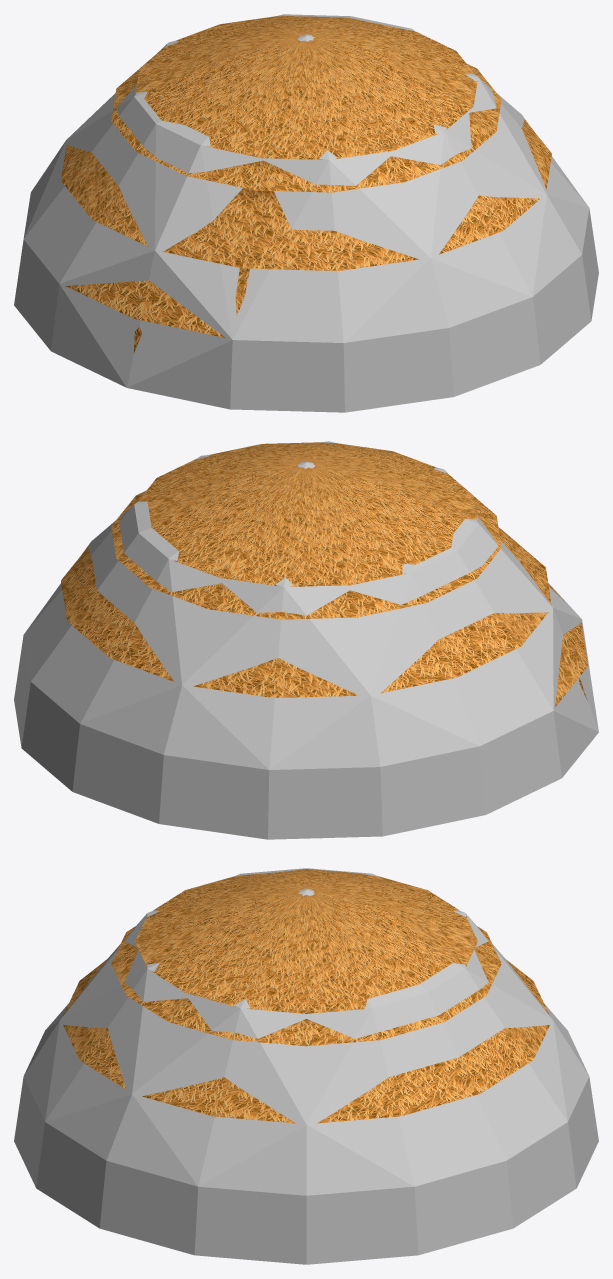
File: SM_HayStack04.fbx
3 views of the same model, one above another, from view 1: azimuth 30°, elevation 25°; view 2: azimuth 150°, elevation 25°; view 3: azimuth 270°, elevation 25° (orthographic).
Parts seen in each view (by area): view 1: SM_HayStack04_ConvexHulls, SM_HayStack04; view 2: SM_HayStack04_ConvexHulls, SM_HayStack04; view 3: SM_HayStack04_ConvexHulls, SM_HayStack04.
Part boxes in pixels (x1,y1,x2,y2): SM_HayStack04_ConvexHulls: (14,14,598,412); SM_HayStack04: (61,16,551,352); SM_HayStack04_ConvexHulls: (14,441,598,839); SM_HayStack04: (61,442,587,706); SM_HayStack04_ConvexHulls: (14,868,598,1264); SM_HayStack04: (63,869,549,1123).
Size of the model in its own units: 476 by 476 by 226.
Materials: 2 (1 with a texture image).
